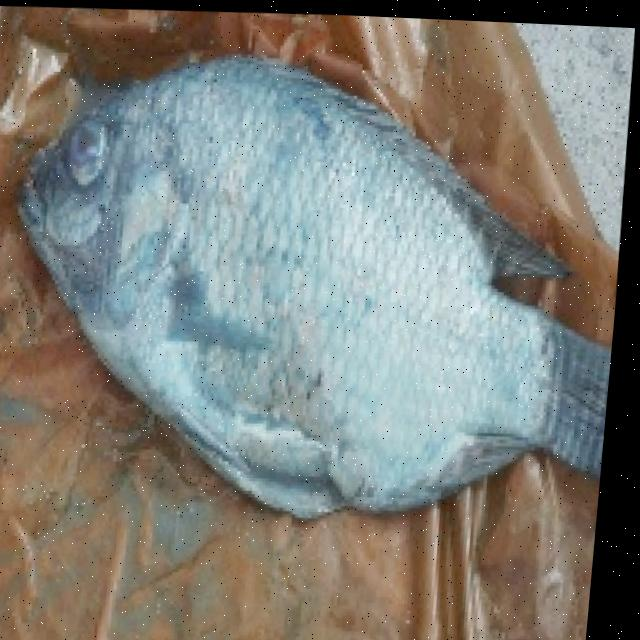Non-Fresh: (0, 10, 521, 476), (43, 110, 132, 198)
